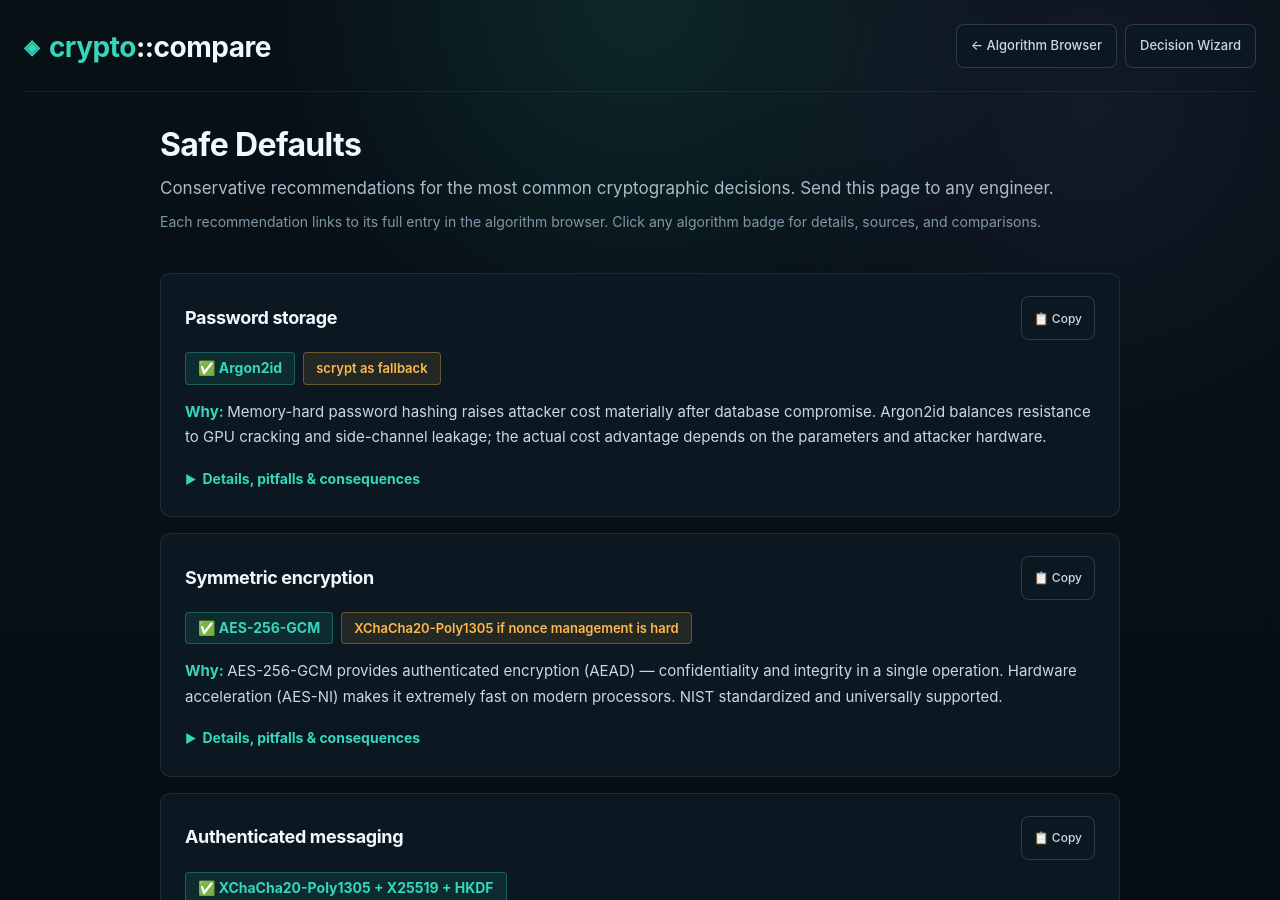
Test case: Safe Defaults › describes the AES-GCM plaintext cap as a per-invocation limit
The image size is (1280, 900).
Click the button "▶ Details, pitfalls & consequences" below "Symmetric encryption": (303, 739) 185,724 -> 420,754
(page scrolled)
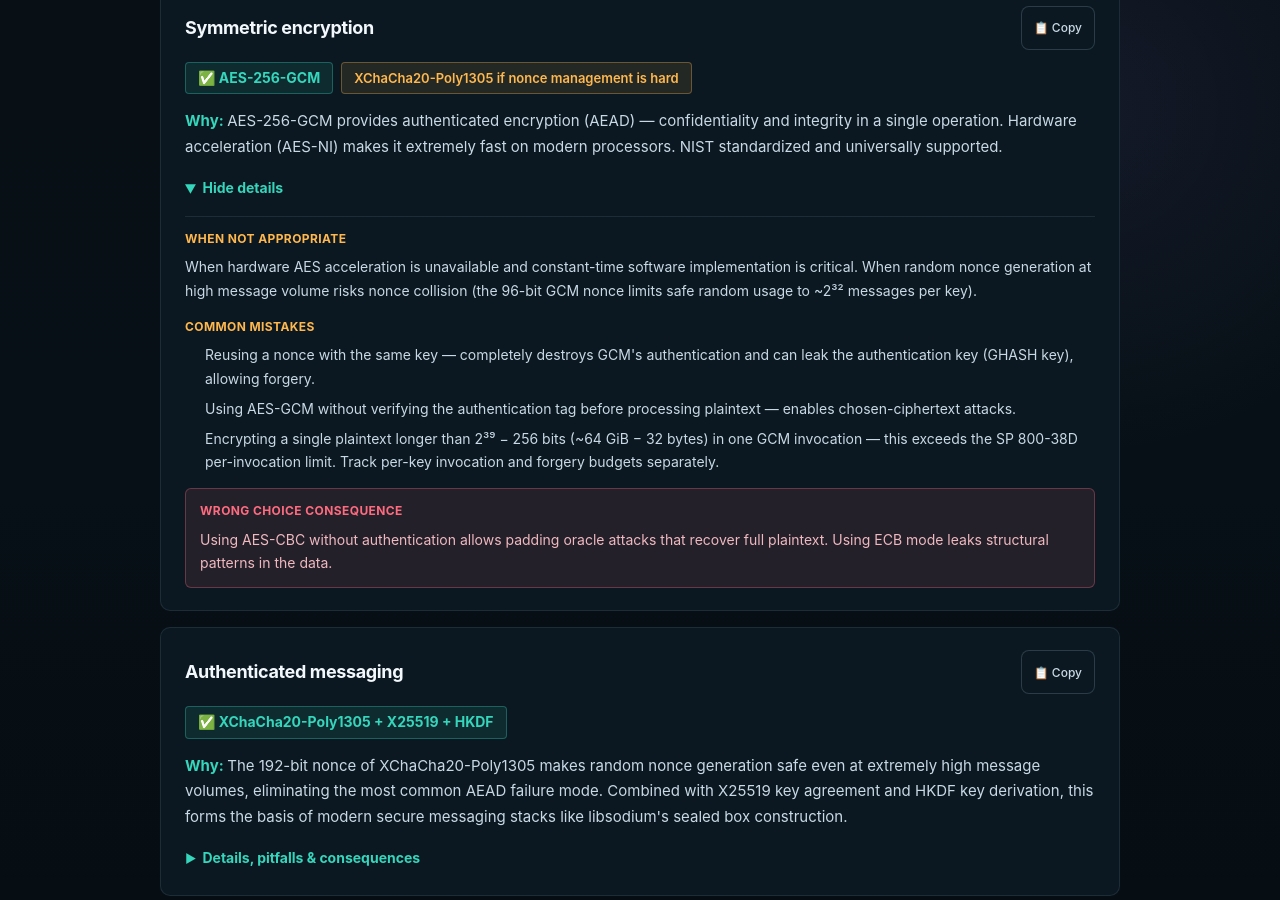
Expected: the list item "per-key invocation and forgery budgets separately" is shown, 205,430 -> 1078,470
